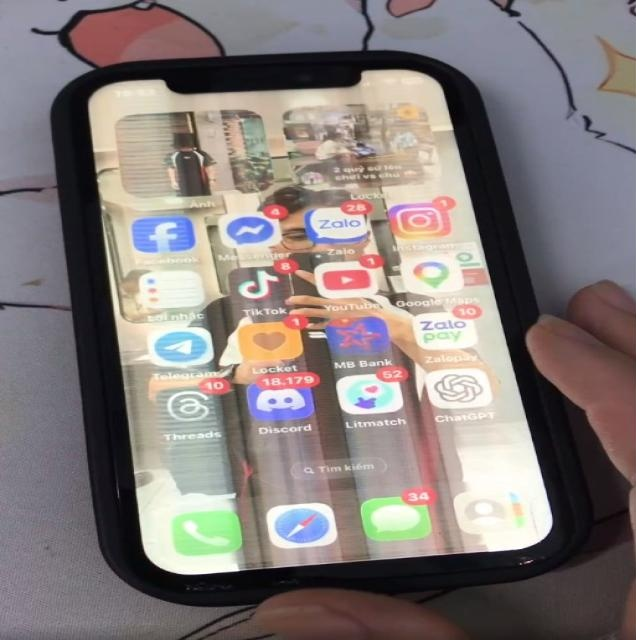scratch: (517, 553, 548, 567)
screen_defect: (90, 382, 560, 534), (73, 228, 520, 380), (82, 67, 484, 225), (130, 536, 486, 574), (488, 536, 550, 552)
